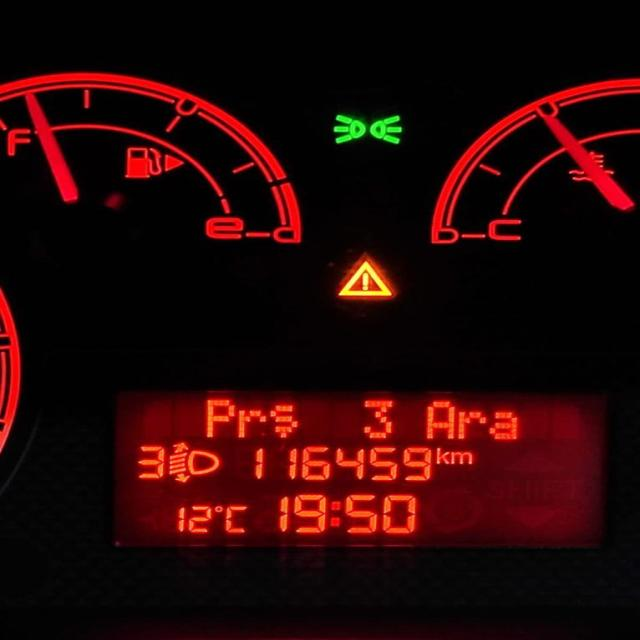odometer: (97, 382, 617, 554)
